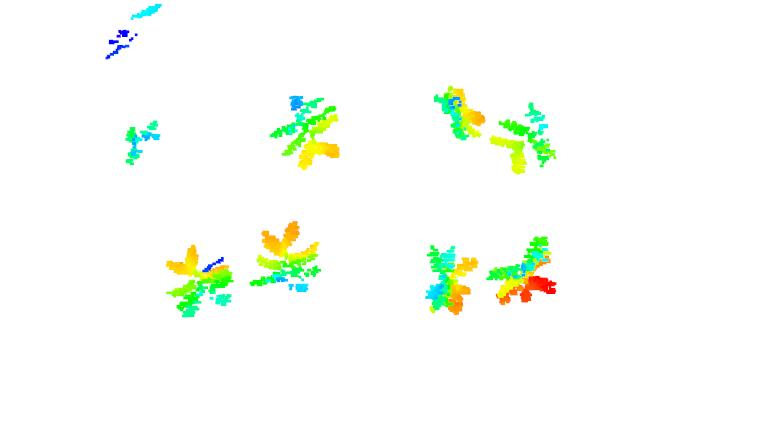chickpea: (266, 94, 341, 171), (247, 219, 320, 295), (487, 235, 560, 307), (487, 101, 557, 174), (166, 244, 232, 321), (422, 242, 477, 318), (432, 85, 487, 143), (122, 118, 160, 164)
